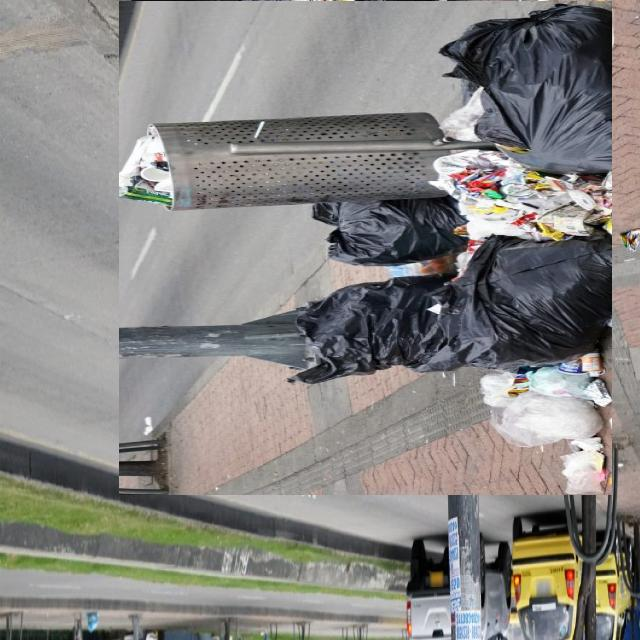garbage: (118, 0, 613, 495)
